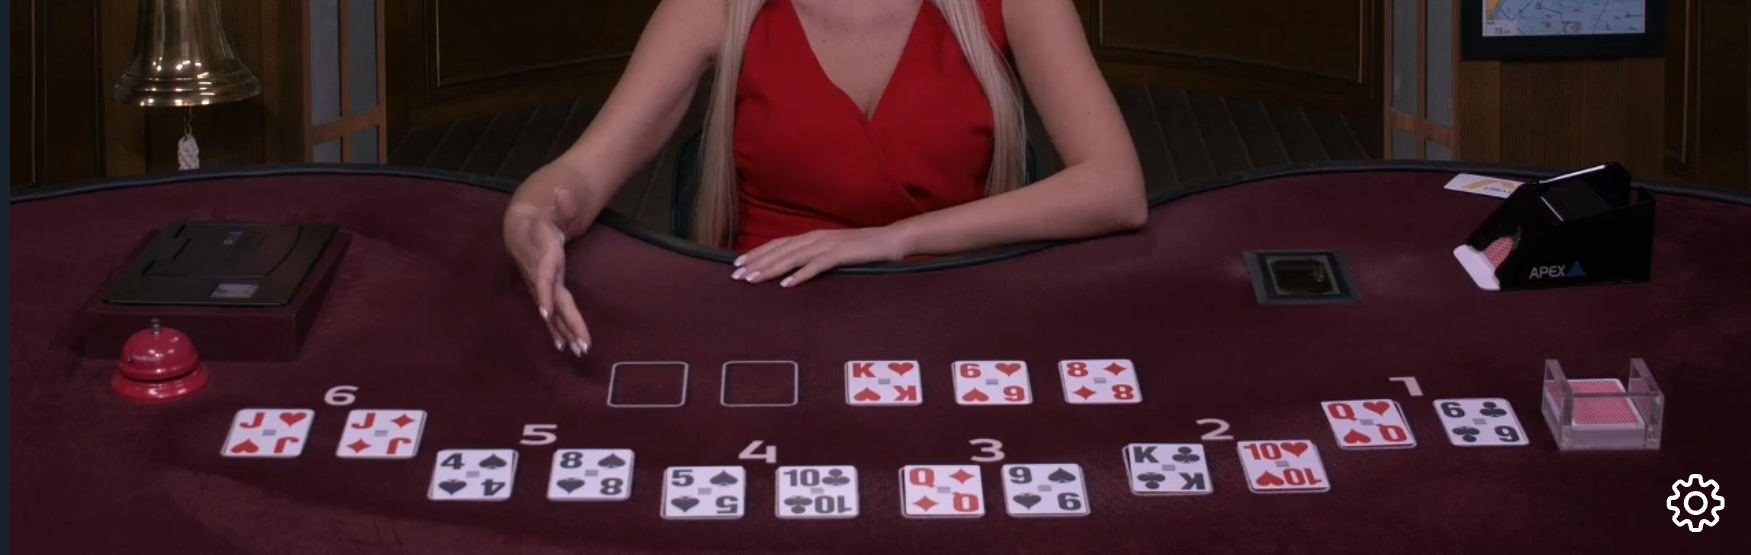10c: (771, 459, 857, 526)
10h: (1245, 434, 1332, 496)
4s: (425, 444, 519, 503)
5s: (663, 458, 753, 525)
6c: (1433, 398, 1532, 449)
6h: (953, 352, 1035, 413)
8d: (1056, 354, 1148, 409)
8s: (546, 444, 643, 507)
9s: (1001, 462, 1089, 523)
jd: (333, 401, 431, 463)
jh: (216, 398, 313, 466)
kc: (1121, 438, 1218, 498)
kh: (840, 356, 924, 409)
qd: (896, 461, 988, 528)
qh: (1315, 398, 1422, 451)
